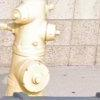a fire hydrant: (8, 2, 56, 94)
